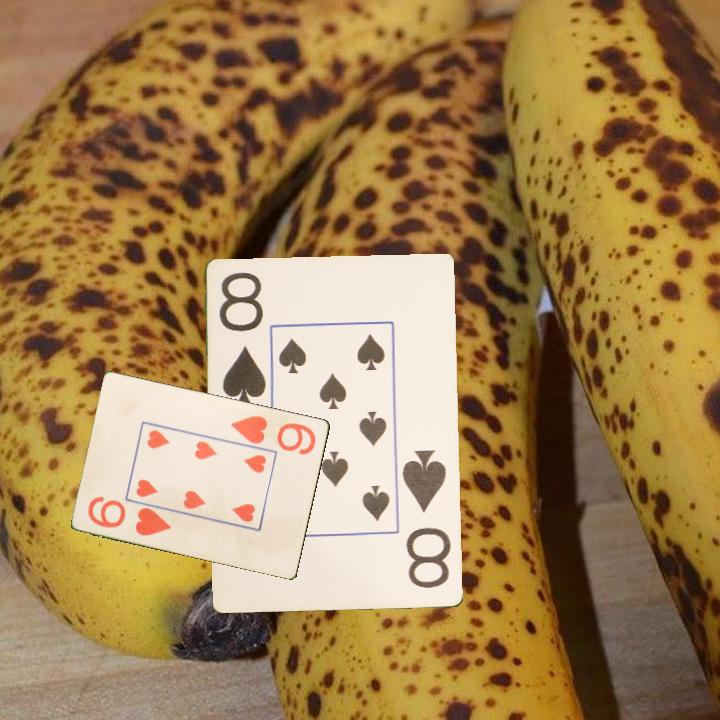6h: (227, 412, 319, 457), (84, 493, 174, 539)
8s: (399, 446, 454, 591), (216, 269, 269, 412)
